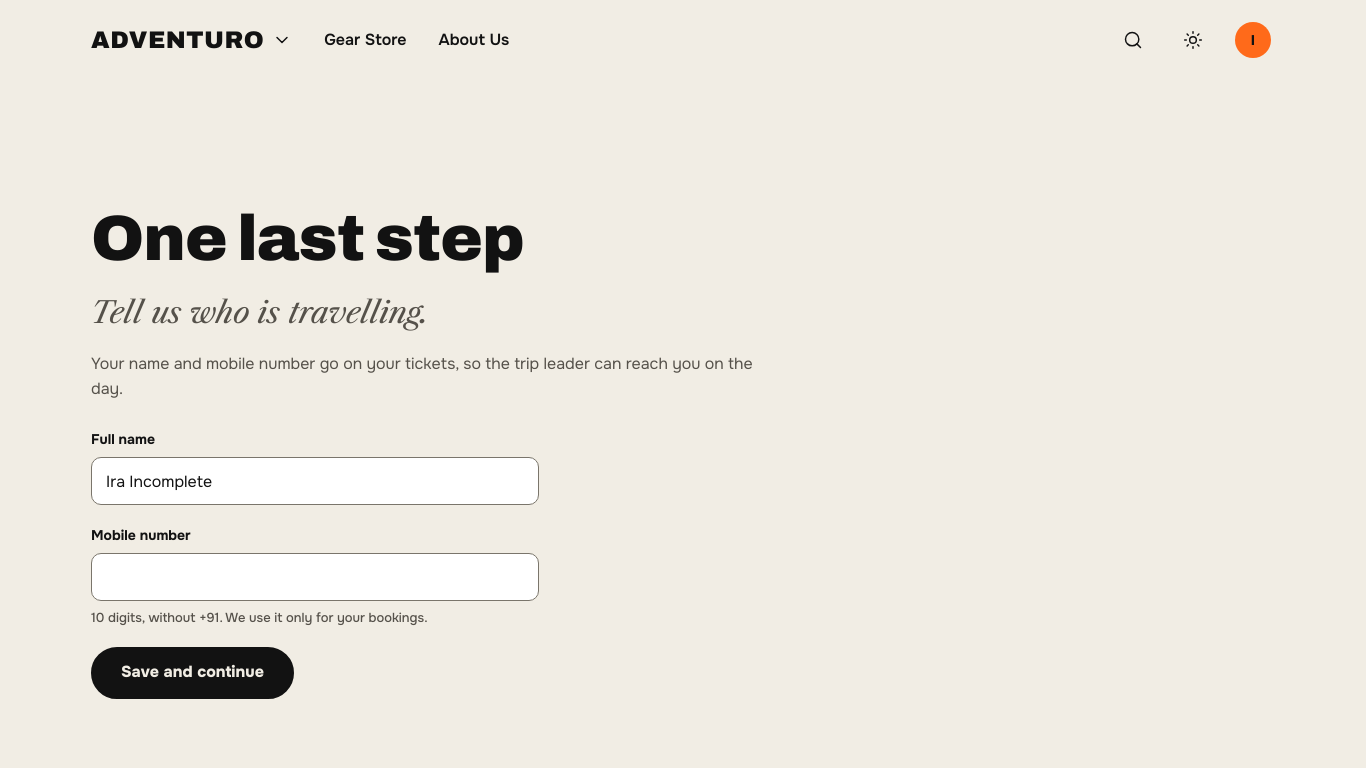
onboarding › asks for a name when it is cleared
The width and height of the screenshot is (1366, 768).
Expected: the heading "One last step" is shown, [91,204,524,274]
Clear the field labelled "Full name" at coordinates (315, 482), box [91,458,539,506]
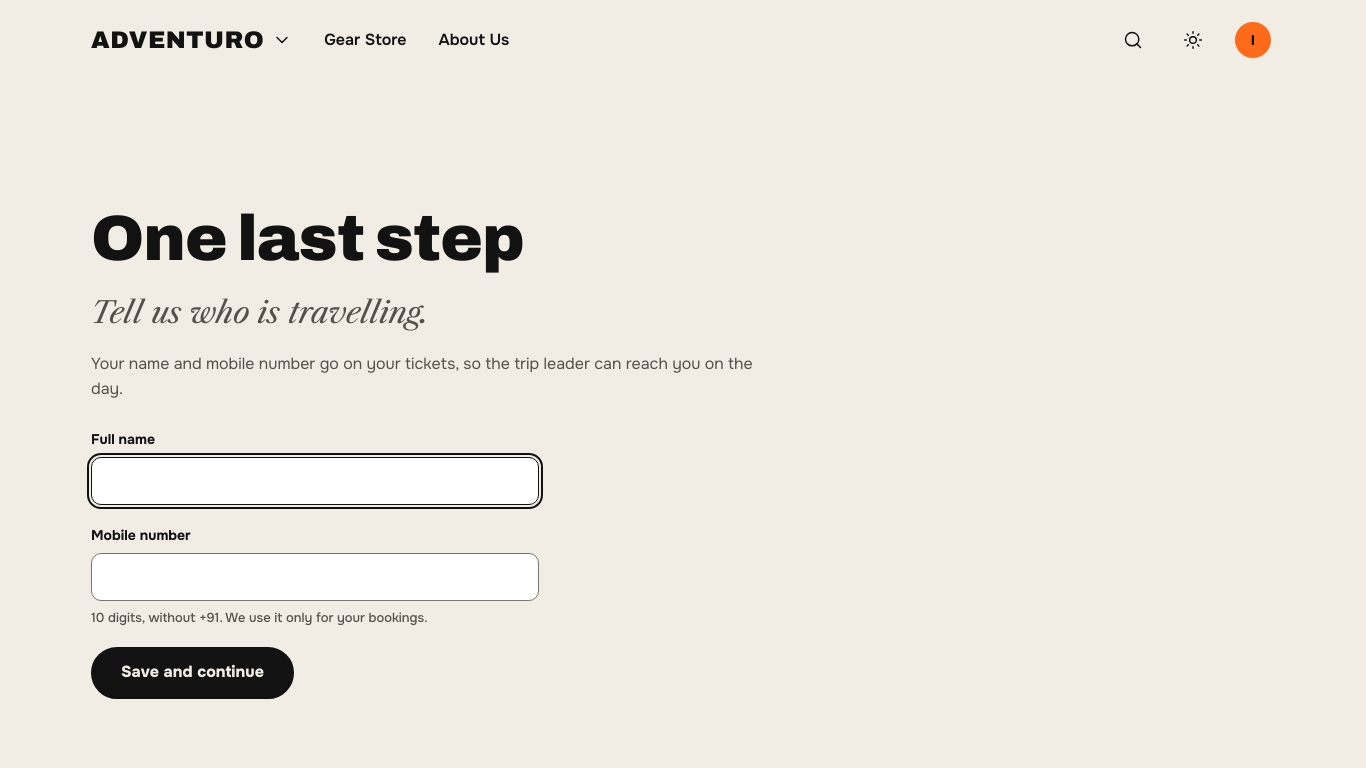
Type "9123456780" into the field labelled "Mobile number" at coordinates (315, 578), box [91,554,539,602]
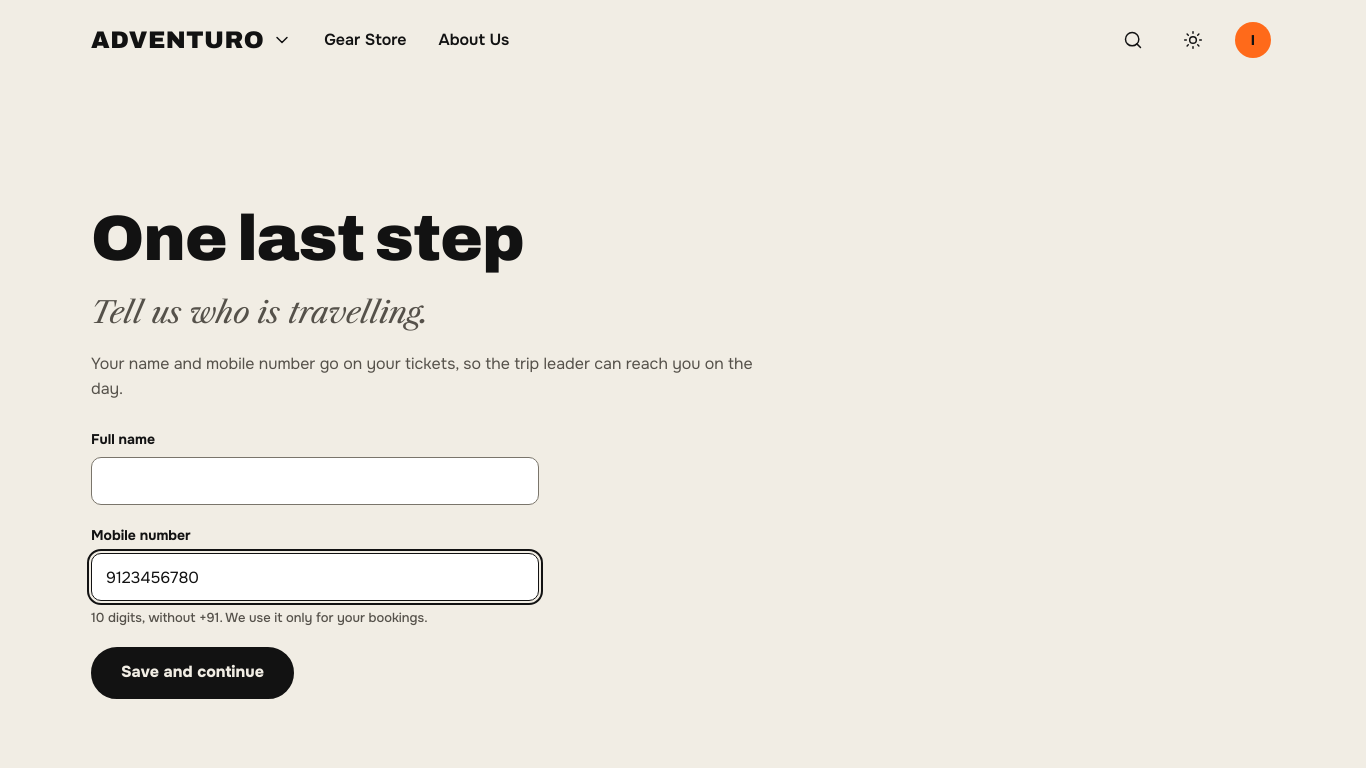
Click the button "Save and continue" at coordinates (192, 673), box [91,647,294,699]
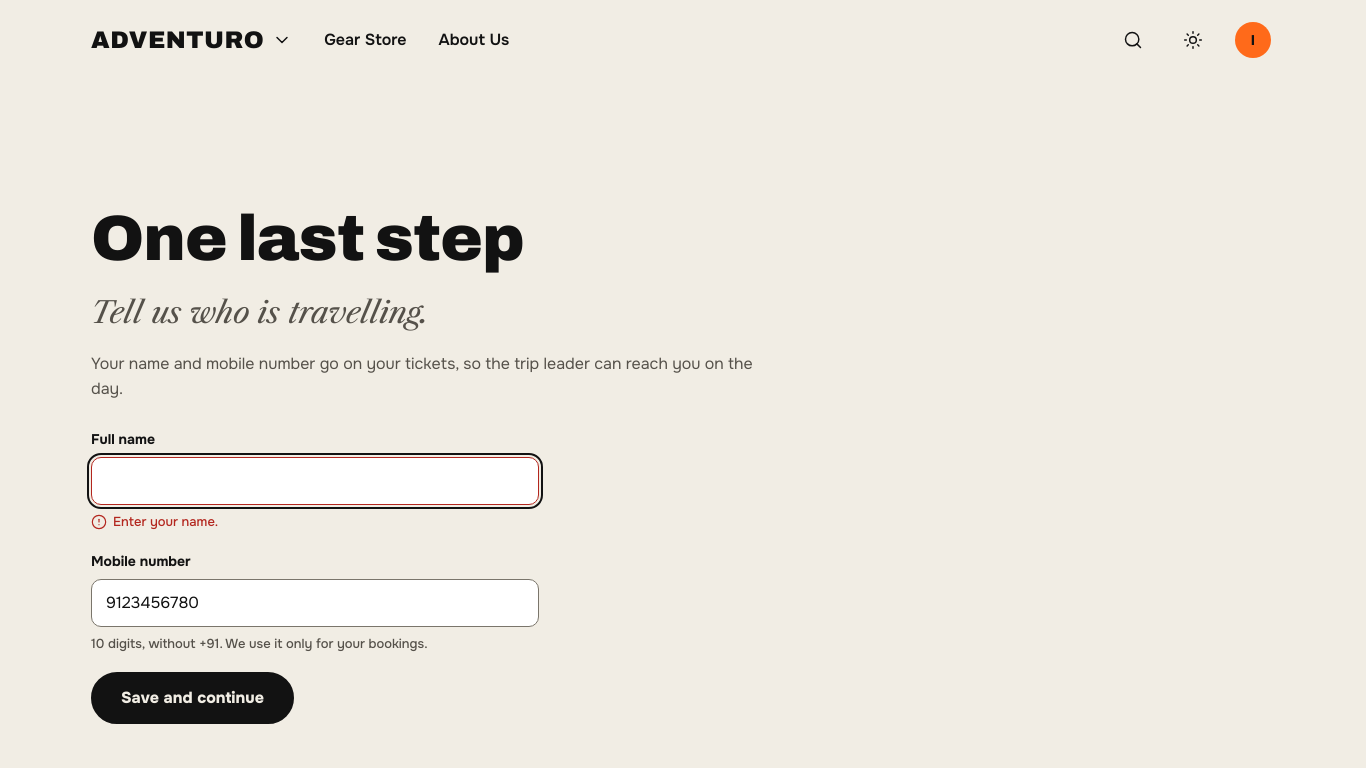
Expected: the message reads "Enter your name.", [113,514,218,530]
